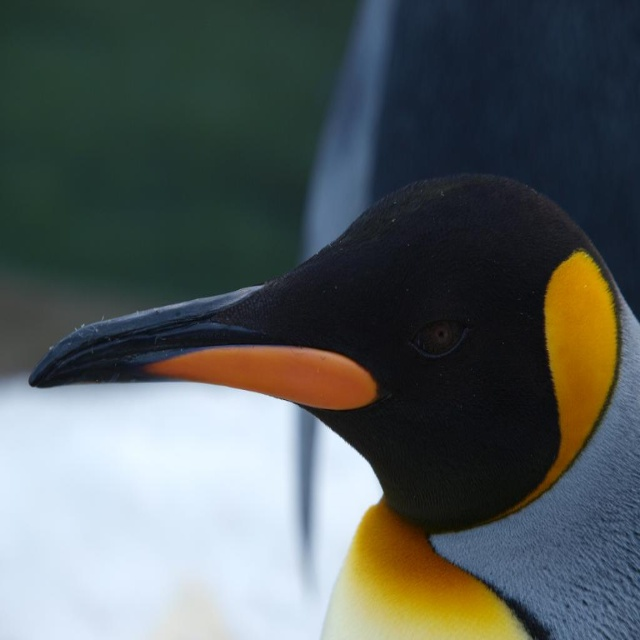Penguin: (27, 171, 640, 640)
